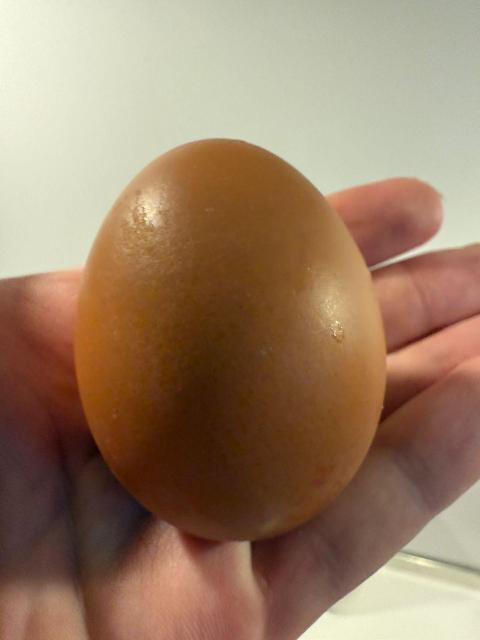Organik: (76, 131, 396, 544)
